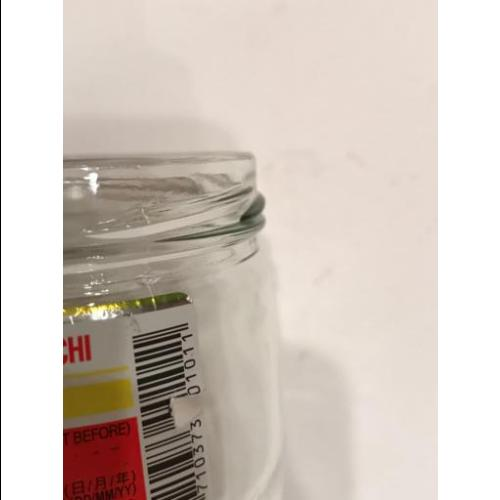glass: (65, 150, 268, 500)
